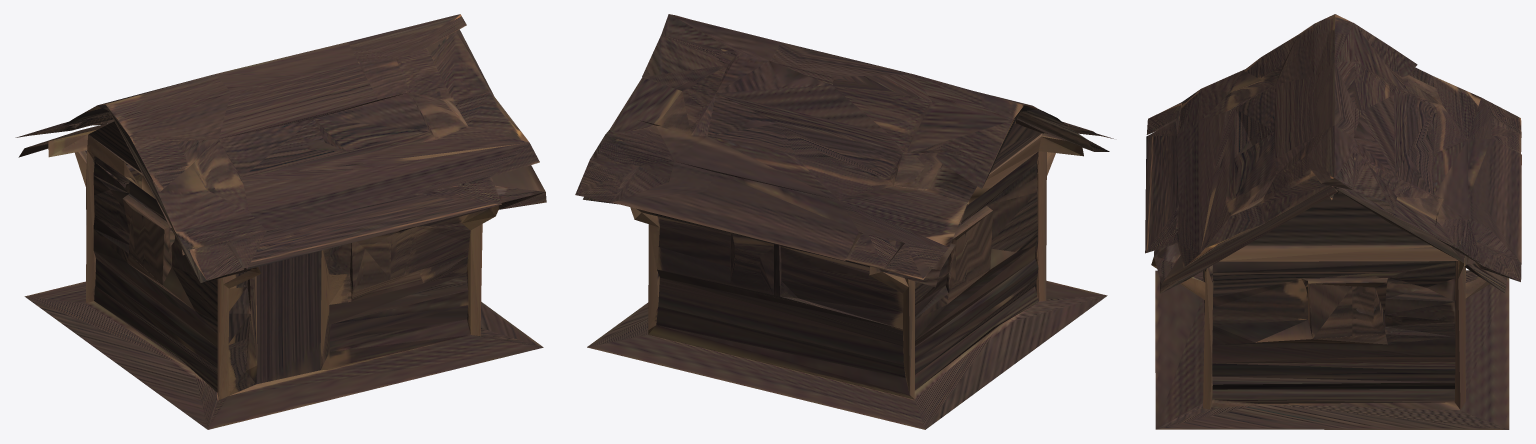
The model's file is House_Player.fbx.
The picture shows the model from 3 angles, left to right: view 1: azimuth 30°, elevation 25°; view 2: azimuth 150°, elevation 25°; view 3: azimuth 270°, elevation 25°; orthographic projection. The views are drawn at different scales.
Parts seen in each view (by area): view 1: Mesh_0; view 2: Mesh_0; view 3: Mesh_0.
Part boxes in pixels (x1,y1,x2,y2): Mesh_0: [15, 14, 546, 429]; Mesh_0: [575, 14, 1113, 429]; Mesh_0: [1145, 14, 1521, 429].
Size of the model in its own units: 425 by 300 by 400.
Materials: 1 (1 with a texture image).
